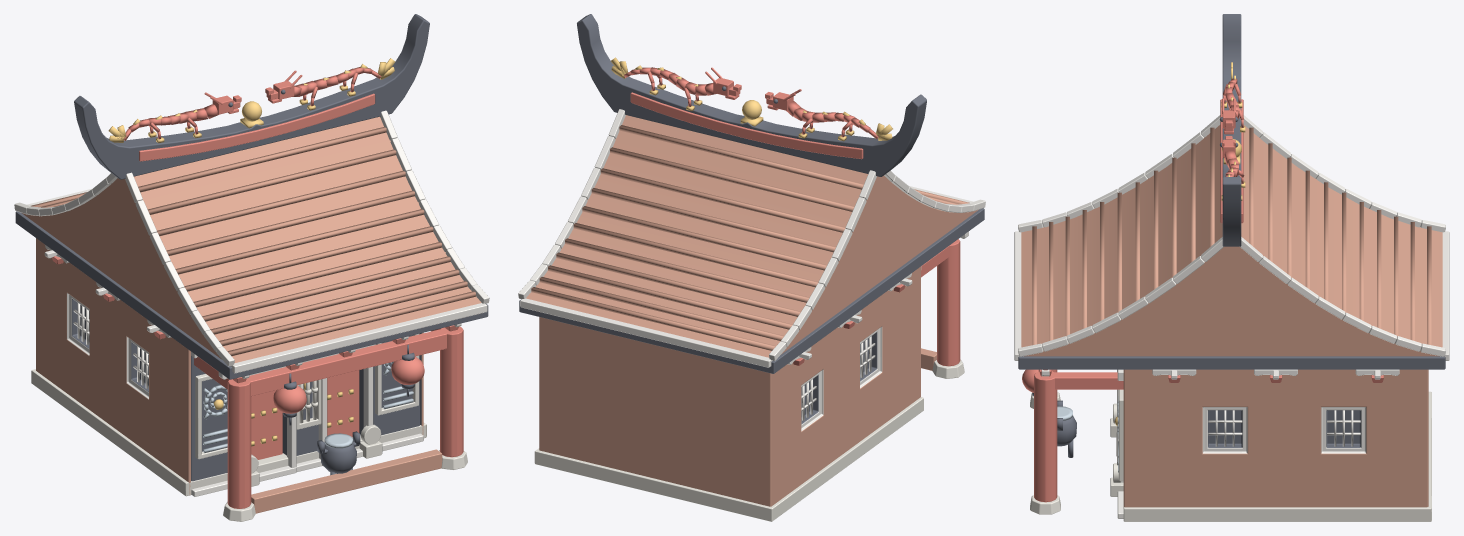
The model's file is temple.glb.
3 views of the same model, side by side, from view 1: azimuth 30°, elevation 25°; view 2: azimuth 150°, elevation 25°; view 3: azimuth 270°, elevation 25° (orthographic).
Parts seen in each view (by area): view 1: main; view 2: main; view 3: main.
Part boxes in pixels (box(x1,y1,x2,y2)): main: box(14, 14, 489, 521); main: box(518, 14, 985, 521); main: box(1014, 14, 1449, 521).
Bounding box in the file's own units: 11.79 × 11.98 × 12.84.
